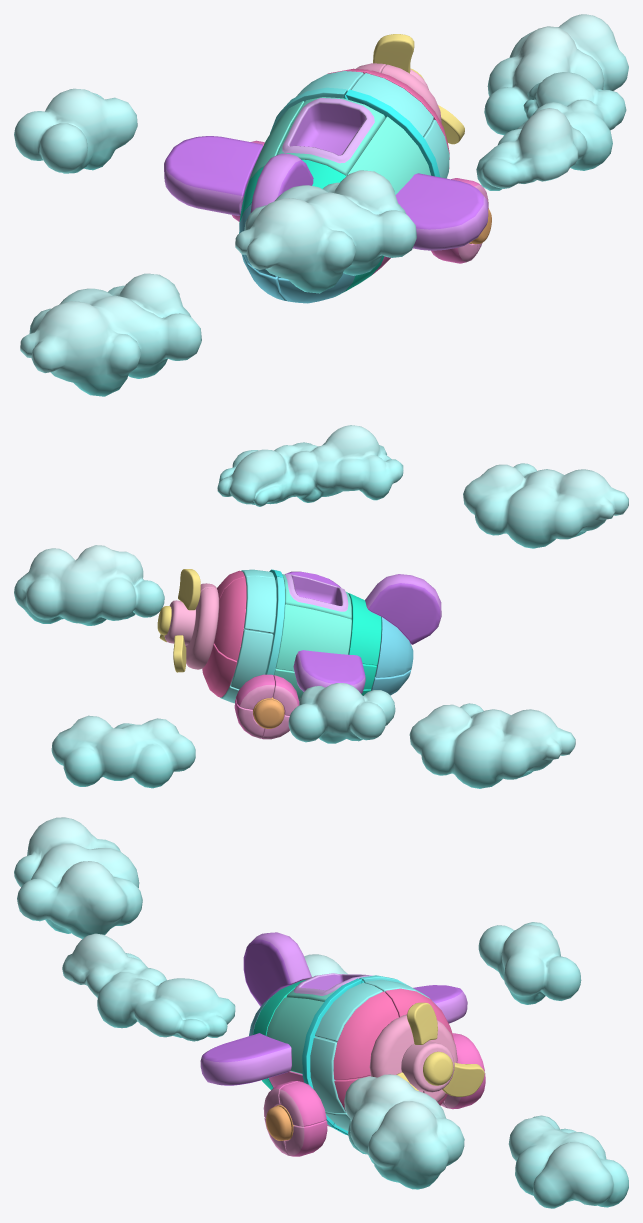
File: Level_P_22.fbx
3 views of the same model, one above another, from view 1: azimuth 30°, elevation 25°; view 2: azimuth 150°, elevation 25°; view 3: azimuth 270°, elevation 25° (orthographic). The views are drawn at different scales.
Parts seen in each view (by area): view 1: Clouds__Cartoon.003, Clouds__Cartoon.002, Clouds__Cartoon.004, Clouds__Cartoon.005, Clouds__Cartoon.001, LV1_PlaneToy_3, LV5_PlaneToy_5, LV1_PlaneToy_2, LV3_PlaneToy_7, LV1_PlaneToy_1, LV6_PlaneToy_5, LV6_PlaneToy_1 (+12 smaller); view 2: Clouds__Cartoon.003, Clouds__Cartoon.002, Clouds__Cartoon.004, Clouds__Cartoon.005, Clouds__Cartoon, Clouds__Cartoon.001, LV1_PlaneToy_1, LV3_PlaneToy_8, LV1_PlaneToy_3, LV5_PlaneToy_5, LV4_PlaneToy_5, LV3_PlaneToy_9 (+13 smaller); view 3: Clouds__Cartoon.003, Clouds__Cartoon.004, Clouds__Cartoon.005, Clouds__Cartoon, Clouds__Cartoon.001, LV1_PlaneToy_2, LV1_PlaneToy_1, LV5_PlaneToy_3, LV3_PlaneToy_7, LV3_PlaneToy_10, LV6_PlaneToy_7, LV6_PlaneToy_5 (+15 smaller).
Part boxes in pixels (<box>): Clouds__Cartoon.003: <box>235,170,416,293</box>; Clouds__Cartoon.002: <box>20,273,201,396</box>; Clouds__Cartoon.004: <box>476,72,626,190</box>; Clouds__Cartoon.005: <box>484,14,628,135</box>; Clouds__Cartoon.001: <box>14,88,137,173</box>; LV1_PlaneToy_3: <box>164,136,263,215</box>; LV5_PlaneToy_5: <box>277,97,385,175</box>; LV1_PlaneToy_2: <box>395,173,488,250</box>; LV3_PlaneToy_7: <box>347,116,430,194</box>; LV1_PlaneToy_1: <box>250,153,313,212</box>; LV6_PlaneToy_5: <box>351,73,433,136</box>; LV6_PlaneToy_1: <box>345,89,440,177</box>; Clouds__Cartoon.003: <box>463,463,628,548</box>; Clouds__Cartoon.002: <box>409,703,575,788</box>; Clouds__Cartoon.004: <box>217,425,403,506</box>; Clouds__Cartoon.005: <box>14,545,164,625</box>; Clouds__Cartoon: <box>51,715,195,788</box>; Clouds__Cartoon.001: <box>288,683,395,743</box>; LV1_PlaneToy_1: <box>365,574,441,644</box>; LV3_PlaneToy_8: <box>276,604,351,671</box>; LV1_PlaneToy_3: <box>293,650,365,693</box>; LV5_PlaneToy_5: <box>282,573,351,619</box>; LV4_PlaneToy_5: <box>214,577,246,660</box>; LV3_PlaneToy_9: <box>186,588,219,669</box>; Clouds__Cartoon.003: <box>14,817,142,938</box>; Clouds__Cartoon.004: <box>62,933,235,1041</box>; Clouds__Cartoon.005: <box>344,1074,464,1189</box>; Clouds__Cartoon: <box>508,1115,628,1208</box>; Clouds__Cartoon.001: <box>478,922,581,1004</box>; LV1_PlaneToy_2: <box>200,1033,291,1085</box>; LV1_PlaneToy_1: <box>243,932,311,1006</box>; LV5_PlaneToy_3: <box>333,991,398,1079</box>; LV3_PlaneToy_7: <box>266,997,323,1074</box>; LV3_PlaneToy_10: <box>369,1015,423,1092</box>; LV6_PlaneToy_7: <box>310,1037,345,1112</box>; LV6_PlaneToy_5: <box>315,982,382,1042</box>.
Size of the model in its own units: 19.71 by 8.32 by 18.13.
